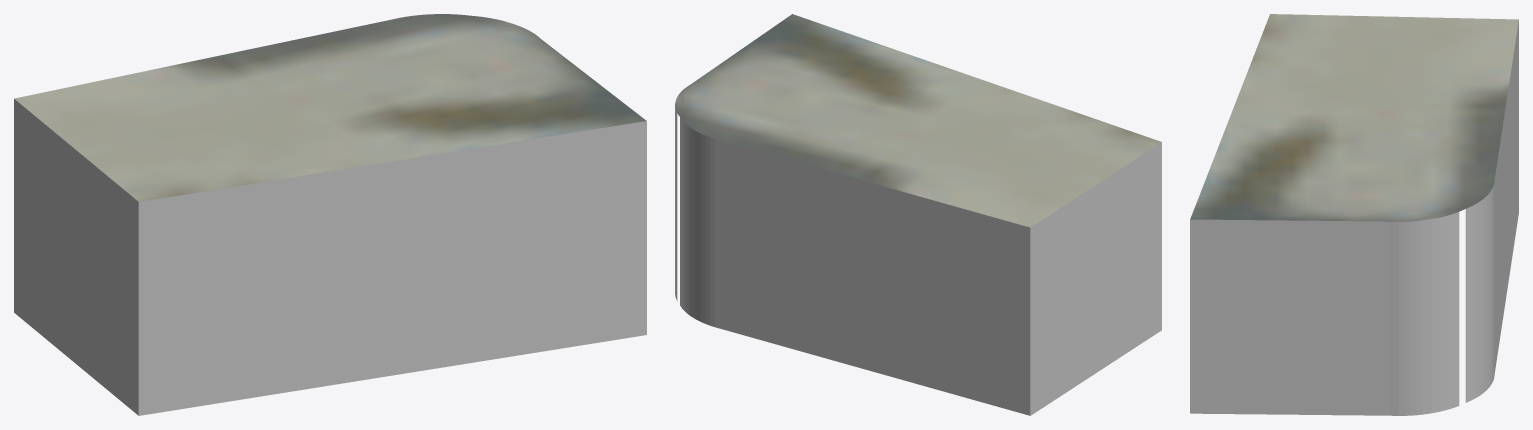
Rendered from DEBW_0010007Tx5V.gltf.
3 views of the same model, side by side, from view 1: azimuth 30°, elevation 25°; view 2: azimuth 150°, elevation 25°; view 3: azimuth 270°, elevation 25° (orthographic). The views are drawn at different scales.
Parts seen in each view (by area): view 1: Z_UP; view 2: Z_UP; view 3: Z_UP.
Part boxes in pixels (box(x1,y1,x2,y2)): Z_UP: box(14, 14, 646, 415); Z_UP: box(675, 14, 1161, 415); Z_UP: box(1190, 14, 1518, 415).
Size of the model in its own units: 6.09 by 2.65 by 4.07.
Materials: 2 (1 with a texture image).
